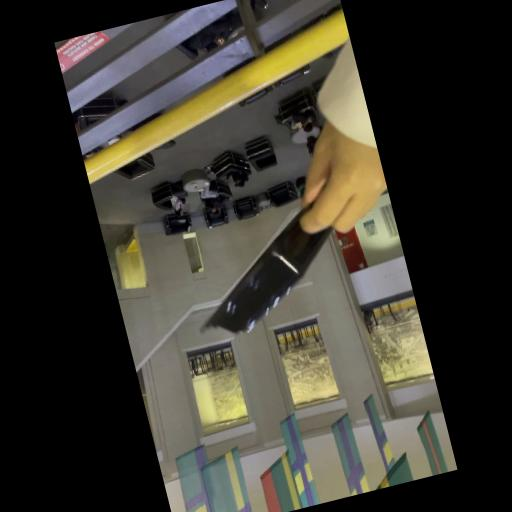rigid_plastic_container: (182, 208, 356, 341)
